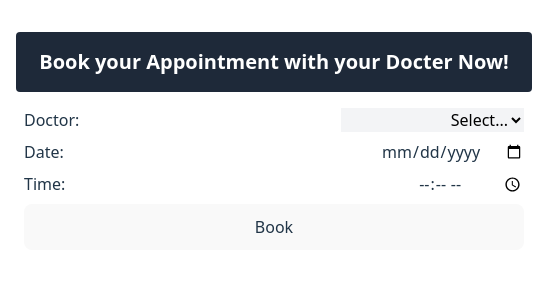
AppointmentBooking › books appointment and shows confirmation
Select "Dr. Smith (Cardiology)" in the dropdown with test id "select-docter" at (432, 120), box [341,108,524,132]
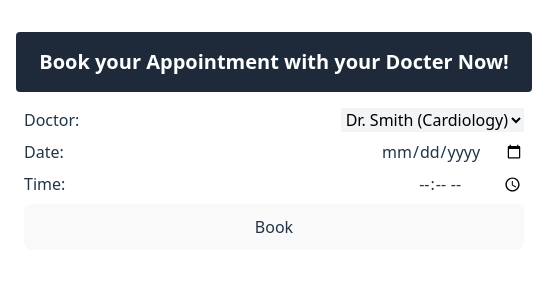
Type "2025-08-21" into the date field with test id "select-date" at (452, 152), box [381,140,524,164]
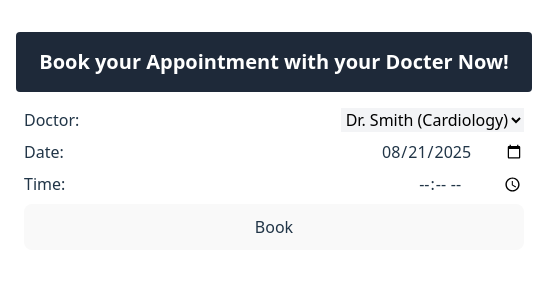
Type "17:09" into the time field with test id "select-time" at (471, 184), box [418,172,524,196]
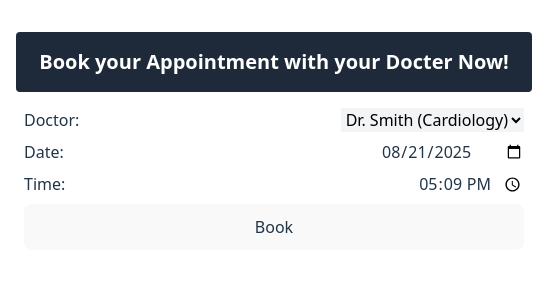
Click the button with test id "book-btn" at (274, 227), box [24,204,524,250]
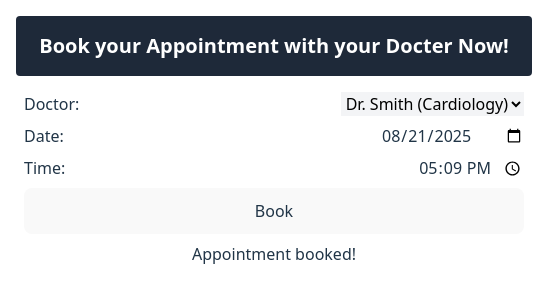
Now the text with test id "confirmation" reads "Appointment booked!", box [192,243,356,265]
